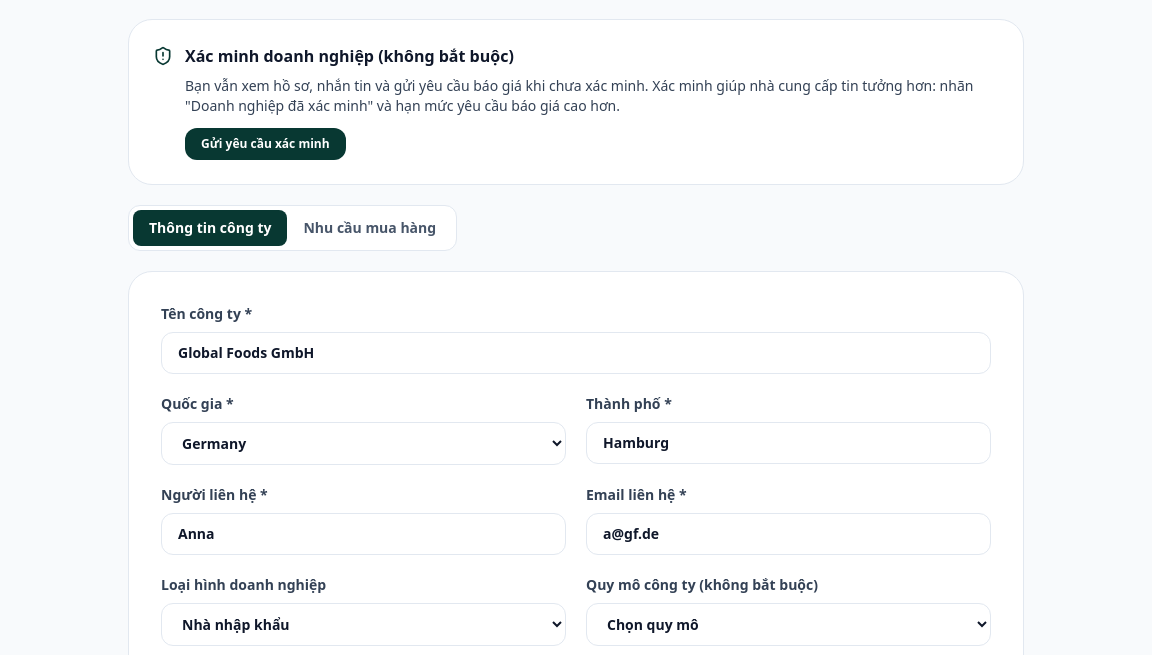
Test case: Hồ sơ công ty của buyer (U5) › nạp hồ sơ và nhu cầu từ server; lưu gửi cả công ty lẫn nhu cầu
expect the field showing "Global Foods GmbH" is shown: met, box left=161, top=332, right=991, bottom=374
expect the field labelled "Thành phố *" holds "Hamburg": met, box left=586, top=422, right=991, bottom=464
Step 1. Click the tab "Nhu cầu mua hàng" → [370, 228], box left=288, top=210, right=452, bottom=246
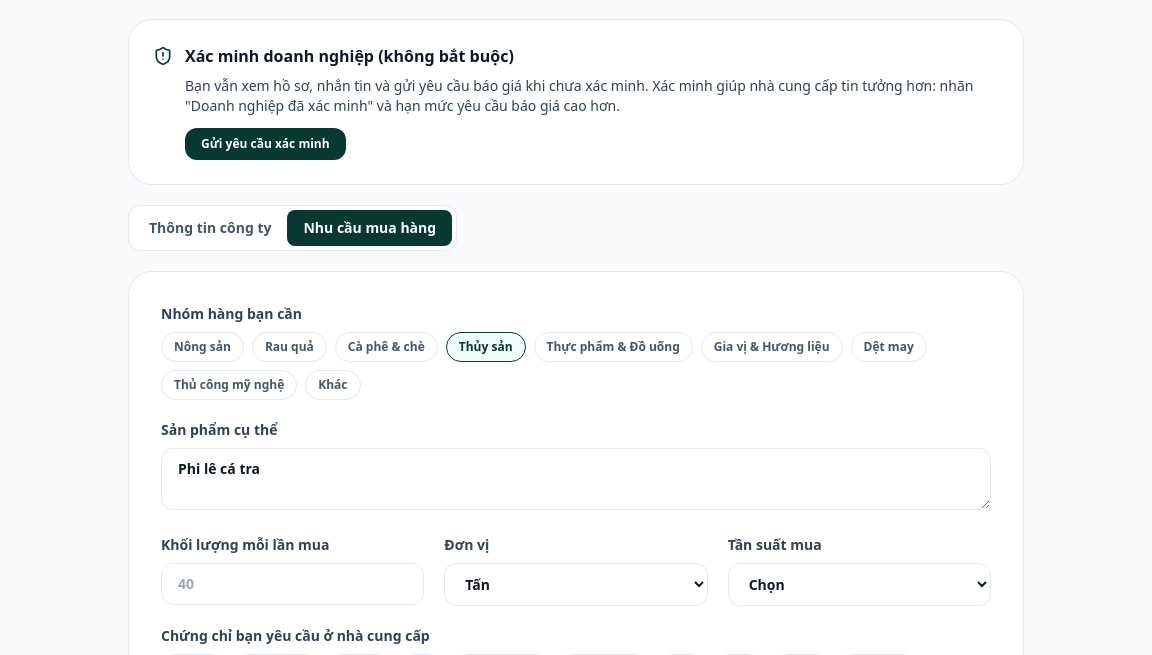
expect the text box labelled "Sản phẩm cụ thể" holds "Phi lê cá tra": met
Step 2. Replace the text in the text box labelled "Sản phẩm cụ thể" with "Tôm thẻ đông lạnh" → [576, 479], box left=161, top=448, right=991, bottom=510
(page scrolled)
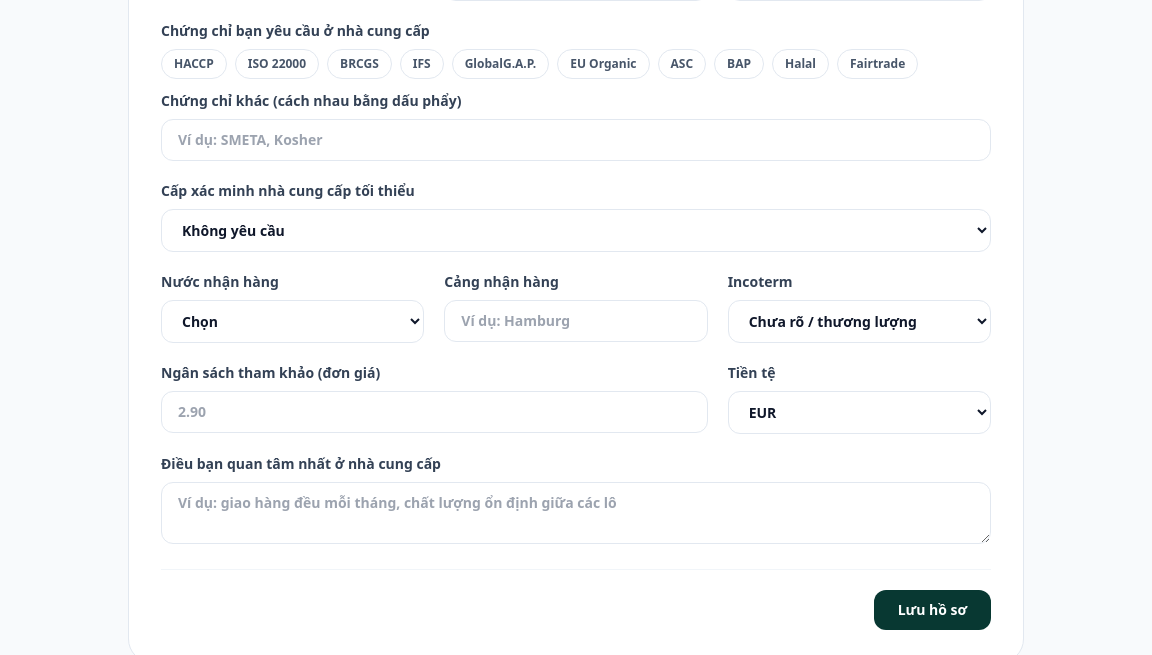
Step 3. Click the button "Lưu hồ sơ" → [932, 610], box left=874, top=590, right=991, bottom=630
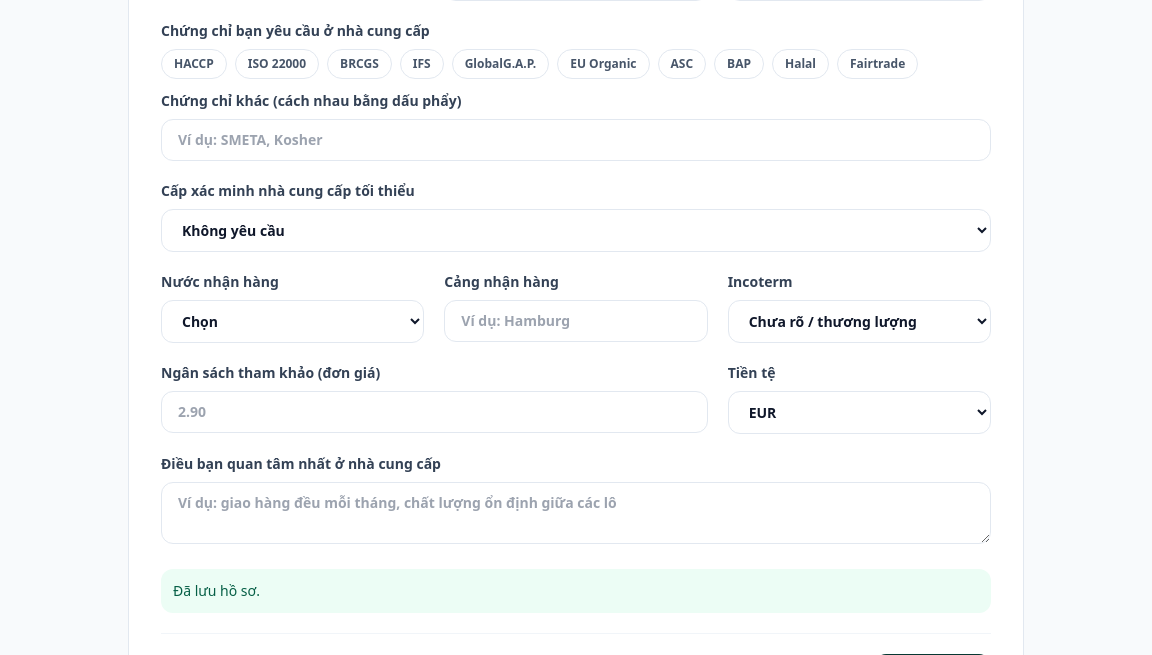
expect the message shows "Đã lưu hồ sơ": met, box left=173, top=581, right=260, bottom=600
